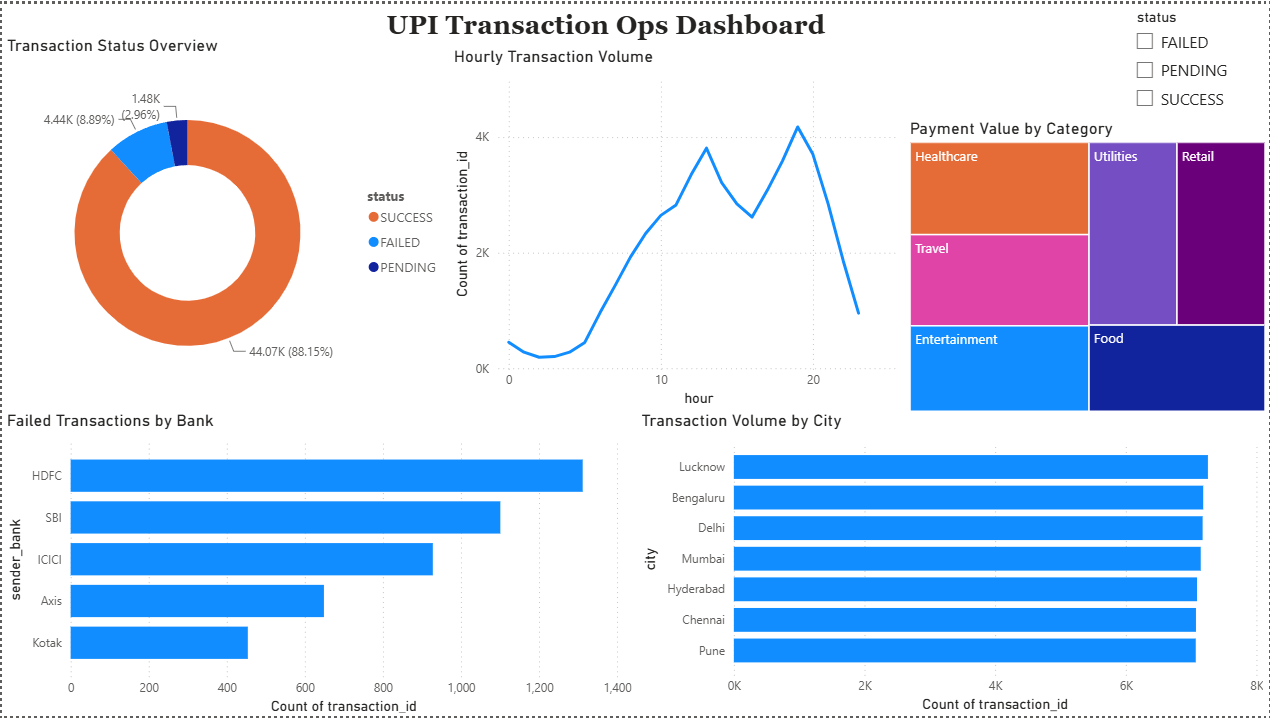

What the dashboard file says about the page in this screenshot:
{"tool":"powerbi","page":{"name":"Page 1","canvas":[1280,720],"ordinal":0},"visuals":[{"type":"donutChart","title":"Transaction Status Overview","fields":{"Category":["upi_transactions_final.status"],"Y":["CountNonNull(upi_transactions_final.transaction_id)"]},"box":[0,31.8,453,378.8],"z":0},{"type":"clusteredBarChart","title":"Failed Transactions by Bank","fields":{"Category":["upi_transactions_final.sender_bank"],"Y":["CountNonNull(upi_transactions_final.transaction_id)"]},"box":[0,410.6,640.9,310.6],"z":1},{"type":"lineChart","title":"Hourly Transaction Volume","fields":{"Category":["upi_transactions_final.hour"],"Y":["CountNonNull(upi_transactions_final.transaction_id)"]},"box":[451.5,42.4,459.1,368.2],"z":2},{"type":"treemap","title":"Payment Value by Category","fields":{"Group":["upi_transactions_final.merchant_category"],"Values":["Sum(upi_transactions_final.amount)"]},"box":[912.1,115.2,368.2,306.1],"z":4},{"type":"clusteredBarChart","title":"Transaction Volume by City","fields":{"Category":["upi_transactions_final.city"],"Y":["CountNonNull(upi_transactions_final.transaction_id)"]},"box":[640.9,410.6,637.9,309.1],"z":5},{"type":"textbox","box":[383.3,0,462.1,42.4],"z":6},{"type":"slicer","fields":{"Values":["upi_transactions_final.status"]},"box":[1133.3,0,147,115.2],"z":7}]}

Visuals, with their boxes in screenshot pixels (x1, y1, x2, y2), scaled from the page's 1280x720 canvas onto the 1270x718 screenshot:
"Transaction Status Overview" donutChart: box(0, 32, 449, 409)
"Failed Transactions by Bank" clusteredBarChart: box(0, 409, 636, 717)
"Hourly Transaction Volume" lineChart: box(448, 42, 903, 409)
"Payment Value by Category" treemap: box(905, 115, 1269, 420)
"Transaction Volume by City" clusteredBarChart: box(636, 409, 1269, 717)
textbox: box(380, 0, 839, 42)
slicer - upi_transactions_final.status: box(1124, 0, 1269, 115)
